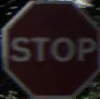Stop: (3, 7, 96, 90)
